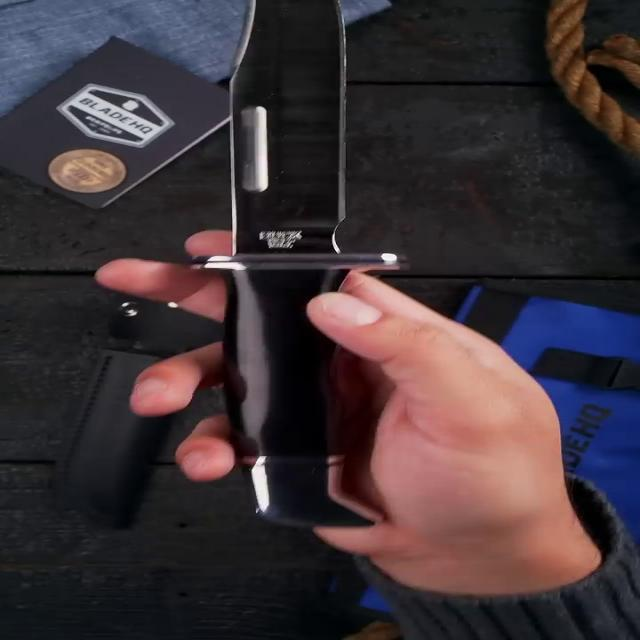Knife: (151, 0, 405, 584)
